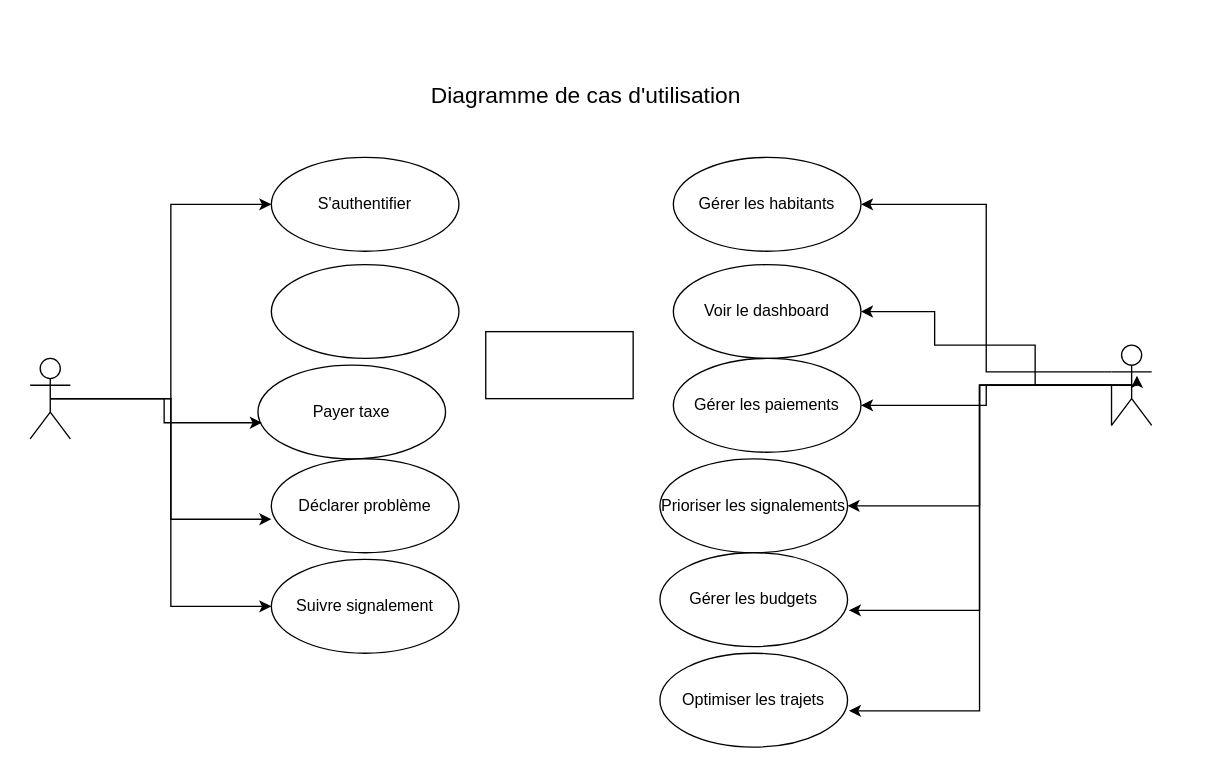
Some shapes in this 1206 by 771 pixel diagram are drawn without their labels. The shapes that lost their labels are listed below. From the top down, each one's box as (x1, y1, x2, y2) in pixels, then its label:
(270, 263, 459, 358): Consulter profil
(484, 330, 633, 399): Système Fokontany_2035
(1110, 344, 1152, 425): Administrateur
(29, 357, 70, 439): Citoyen
